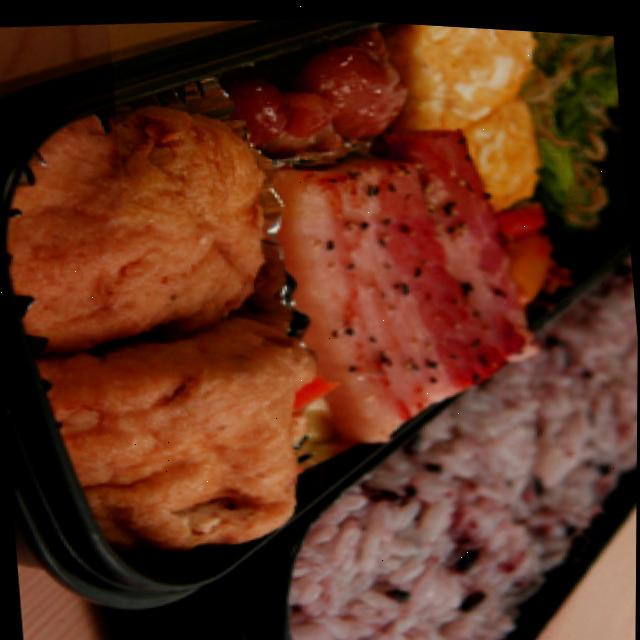熟制海鲜: (0, 28, 354, 585)
